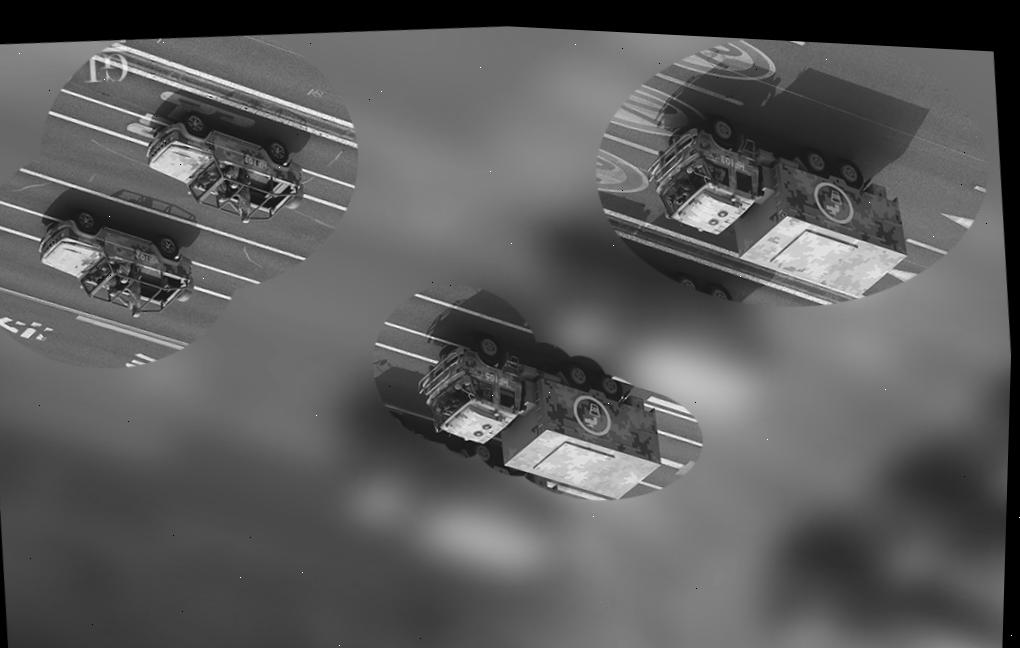armored_car: (133, 100, 309, 233), (29, 196, 199, 327)
truck: (599, 93, 917, 328), (391, 298, 710, 522)
